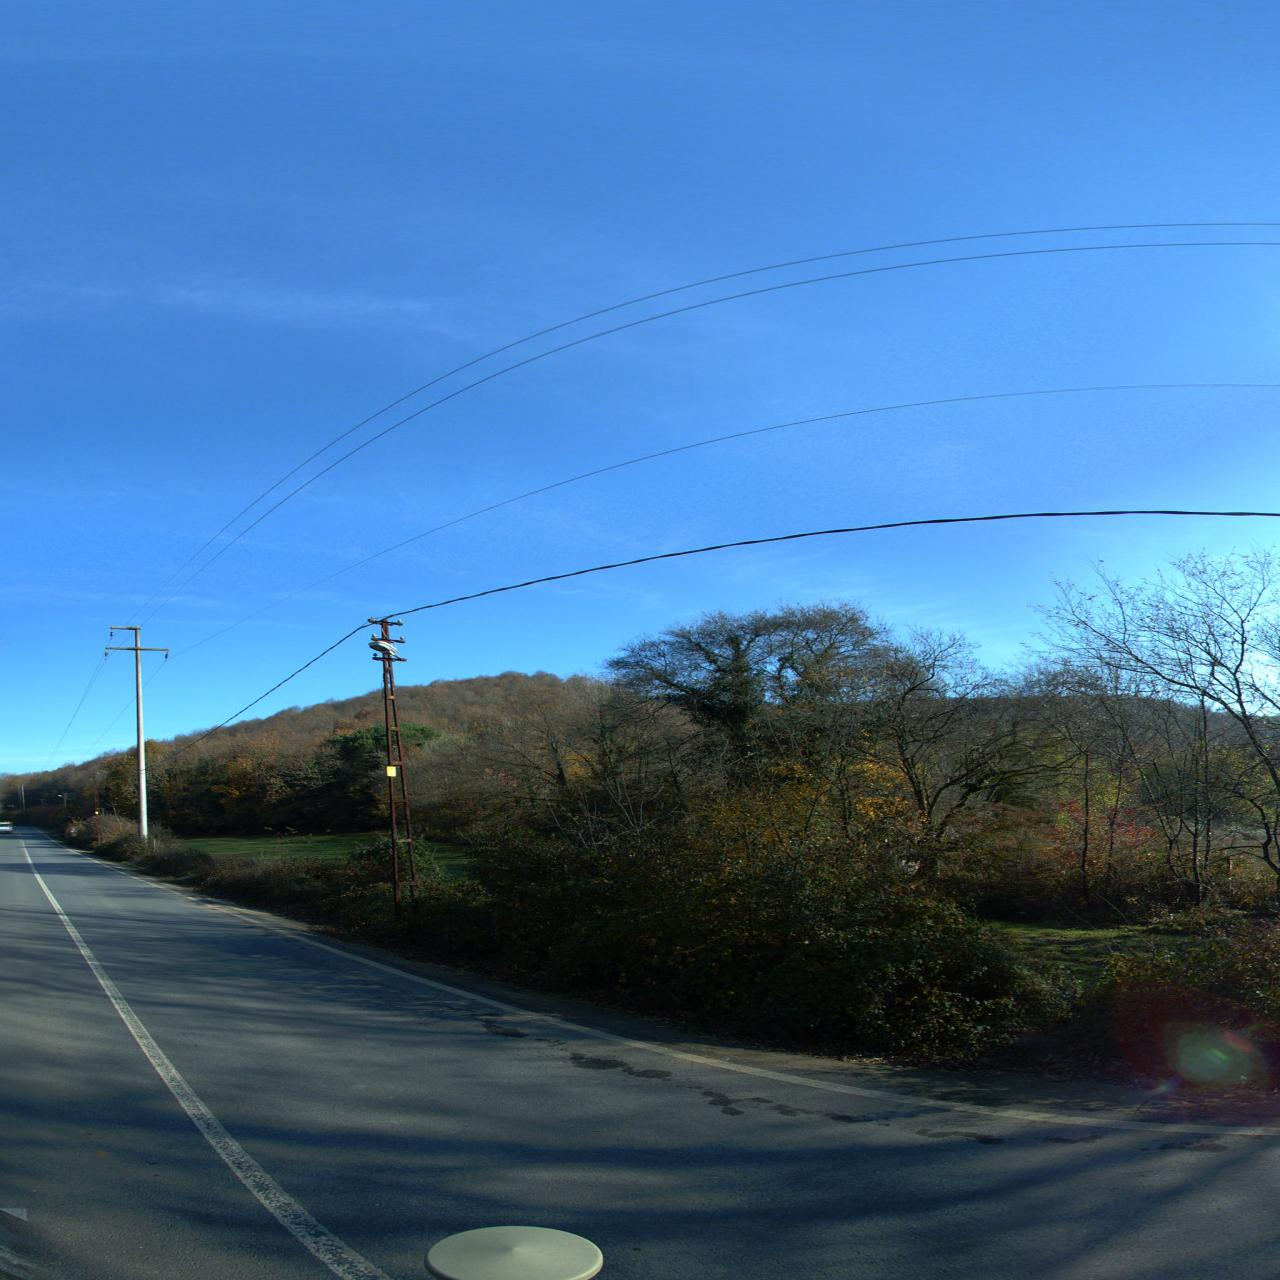Utility Pole Information Plate: (387, 767, 396, 777)
